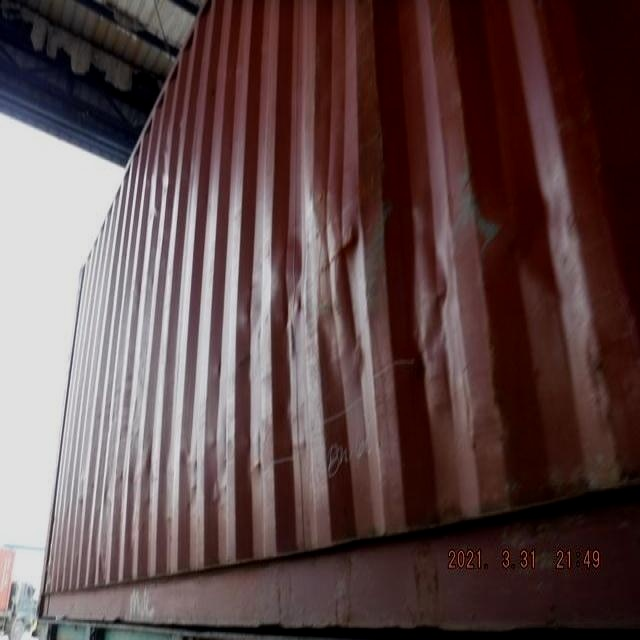Dent: (262, 97, 381, 388), (376, 193, 491, 413)
